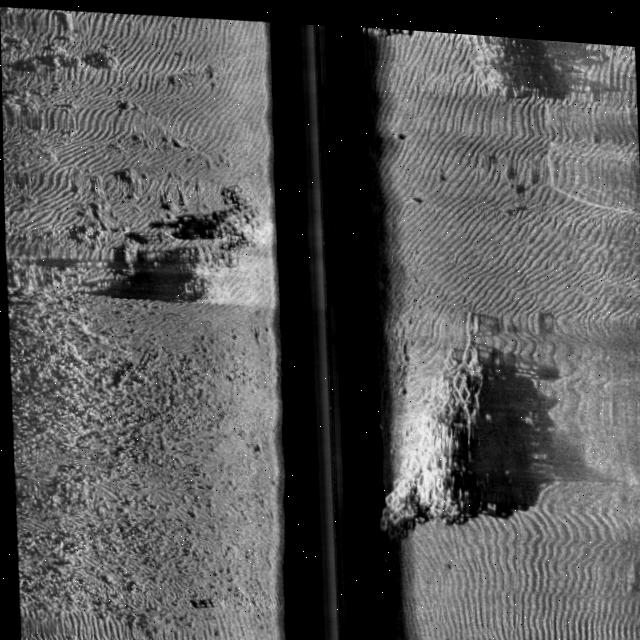artificial reef: (373, 303, 509, 543)
